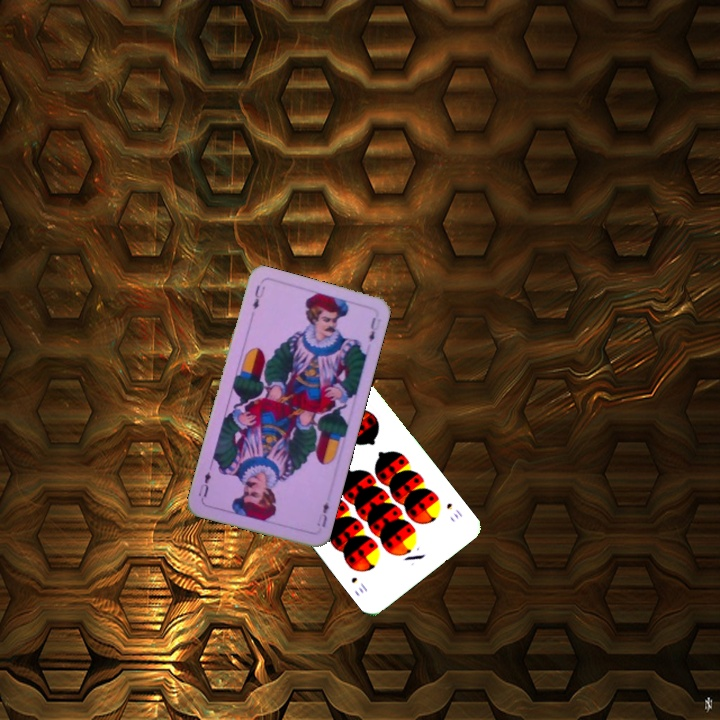EU: (249, 281, 268, 312), (318, 498, 332, 530)
S10: (442, 499, 465, 522)
